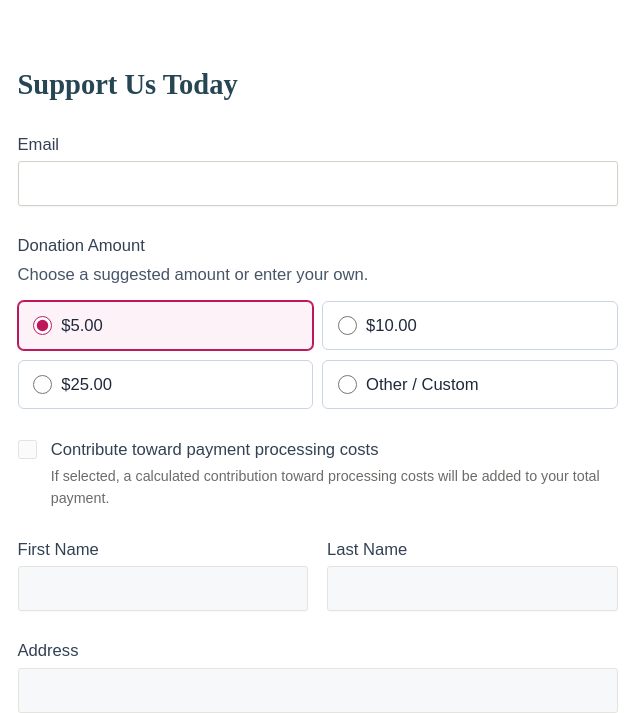
Scenario: lets the donor switch presets and enter a custom amount without retaining the prior preset
The image size is (637, 713).
Click the radio button labelled "$10.00" at {"x": 347, "y": 326}, box 338,316 -> 356,335
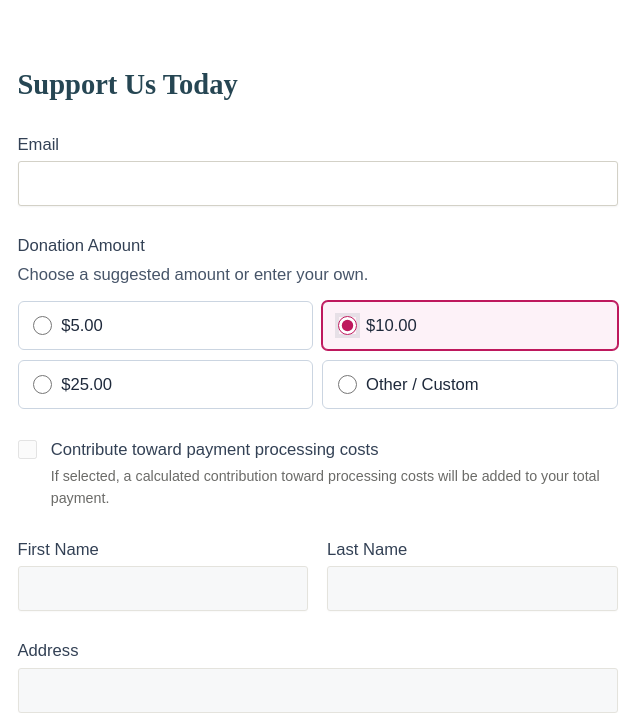
Click the radio button labelled "Other / Custom" at {"x": 347, "y": 384}, box 338,375 -> 356,394
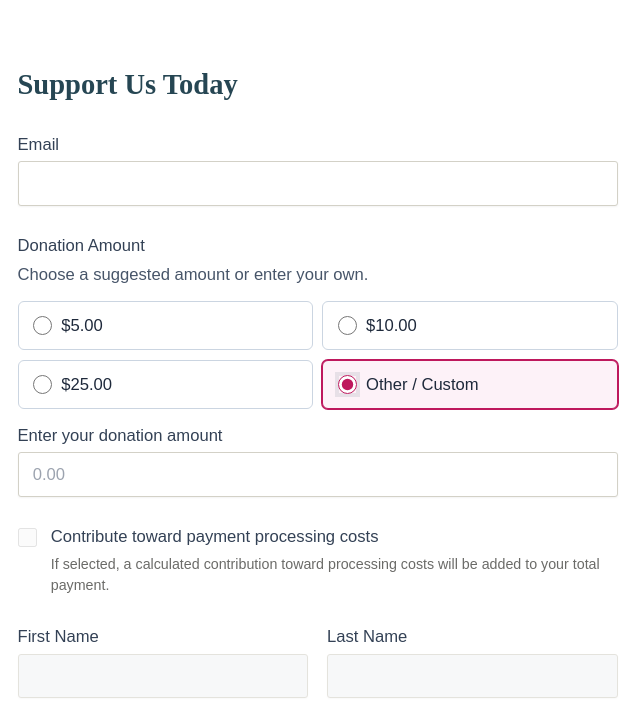
expect the radio button labelled "Other / Custom" is checked: met, box 338,375 -> 356,394
expect the field labelled "Enter your donation amount" is empty: met
Type "12.50" into the field labelled "Enter your donation amount" at {"x": 318, "y": 474}, box 18,452 -> 618,497
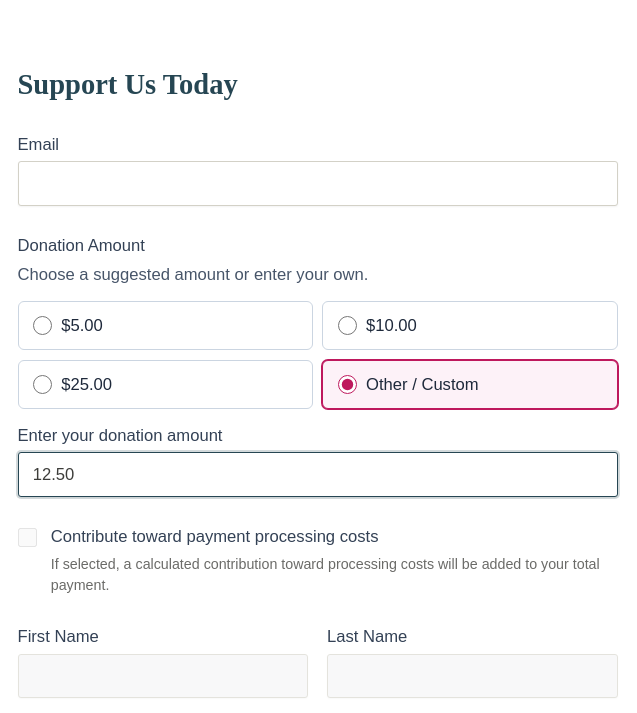
Click the radio button labelled "$25.00" at {"x": 42, "y": 384}, box 33,375 -> 52,394
(page scrolled)
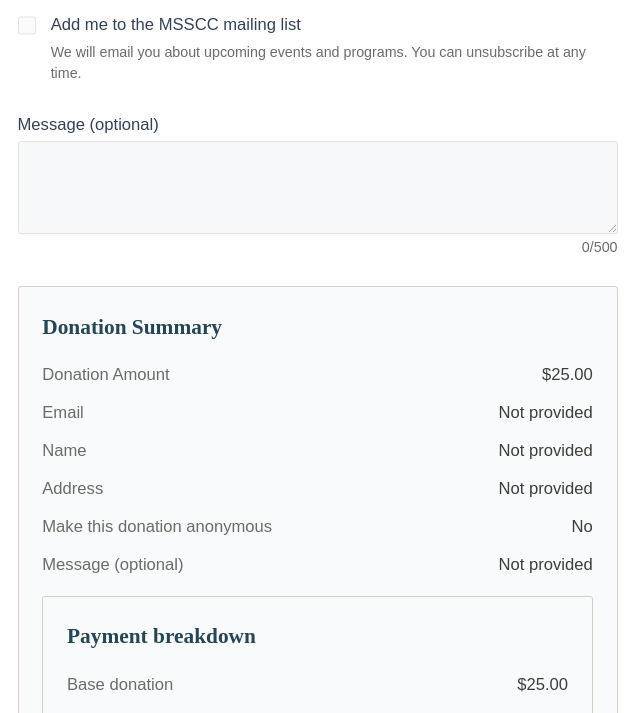
expect the label "Enter your donation amount" is gone: met
